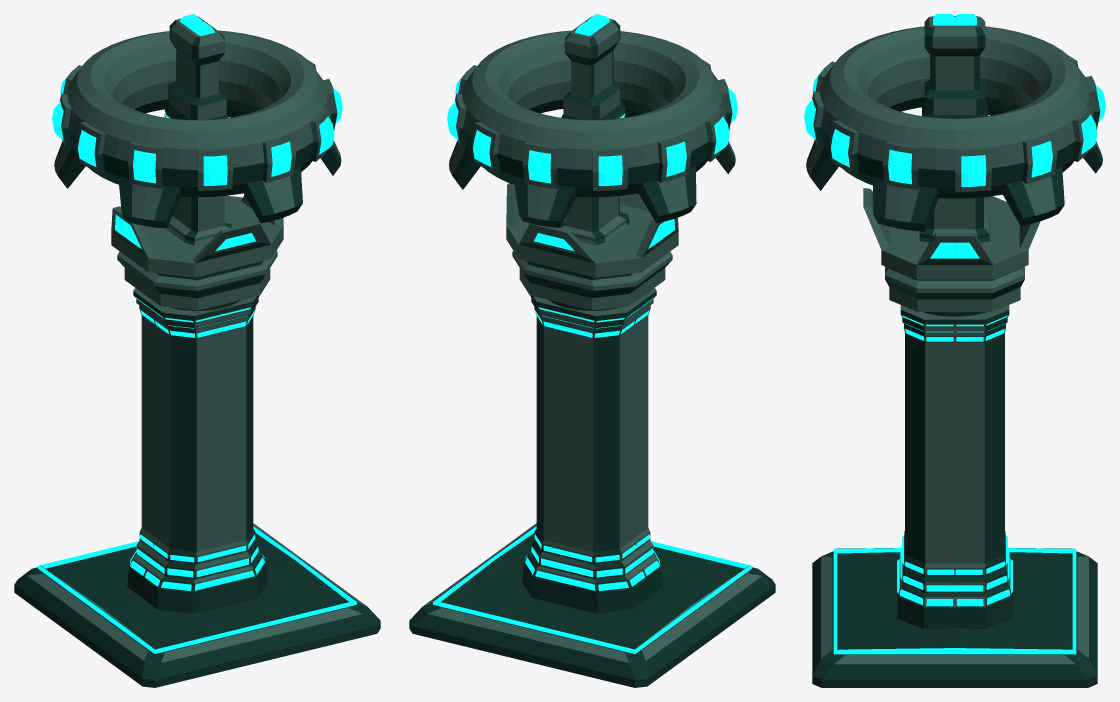
File: ElectricTower2.fbx
The picture shows the model from 3 angles, left to right: view 1: azimuth 30°, elevation 25°; view 2: azimuth 150°, elevation 25°; view 3: azimuth 270°, elevation 25°; orthographic projection. The views are drawn at different scales.
Visible parts, largest first — view 1: Torus, pillar, base, turret; view 2: Torus, pillar, base, turret; view 3: Torus, pillar, base, turret.
Part boxes in pixels (x1,y1,x2,y2): Torus: [52, 30, 342, 228]; pillar: [127, 288, 267, 613]; base: [14, 523, 380, 687]; turret: [111, 14, 283, 310]; Torus: [447, 30, 737, 227]; pillar: [522, 288, 662, 613]; base: [409, 523, 775, 687]; turret: [506, 14, 678, 310]; Torus: [804, 26, 1105, 231]; pillar: [897, 305, 1012, 628]; base: [812, 548, 1097, 687]; turret: [863, 14, 1040, 311].
Size of the model in its own units: 212 by 472 by 212.
